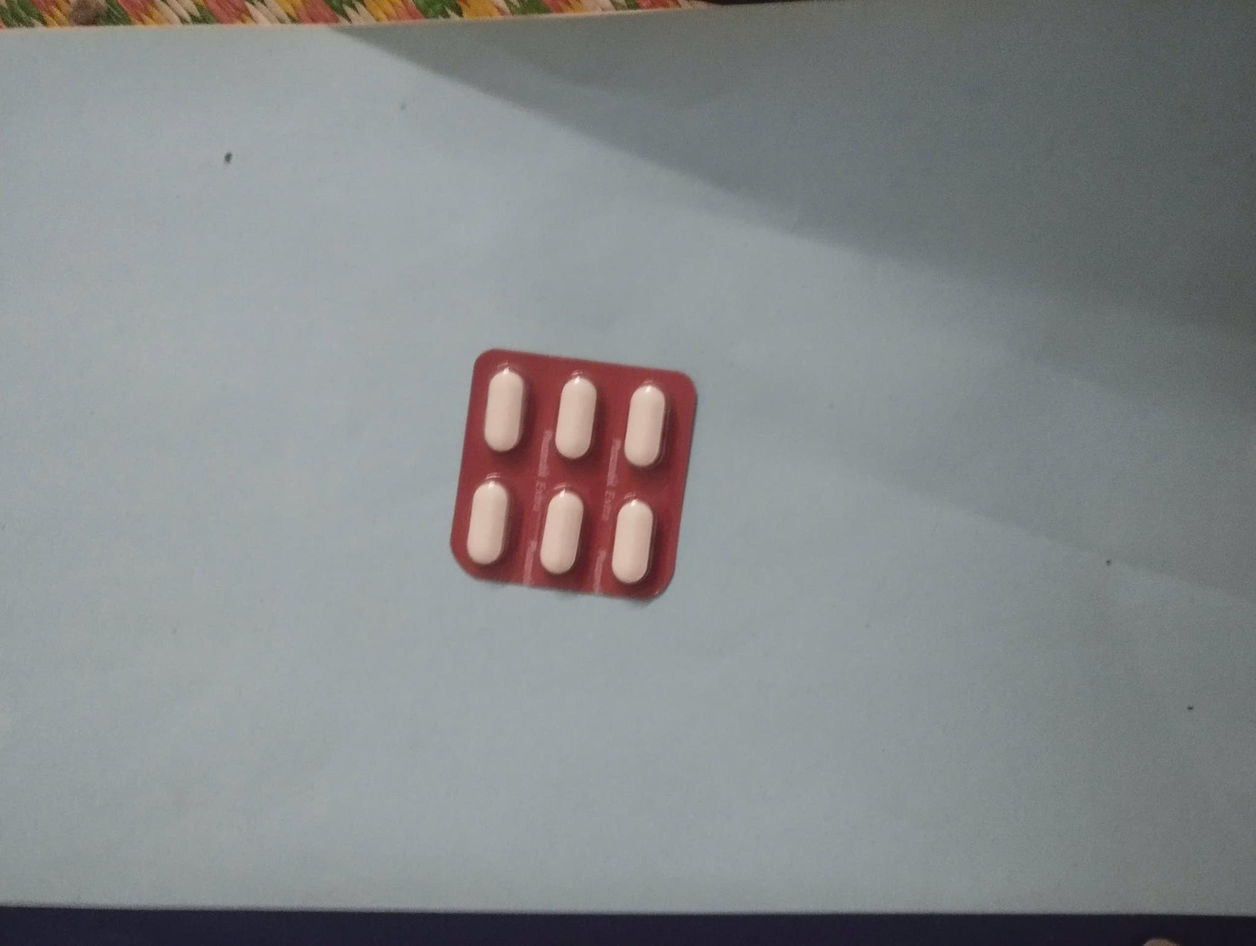Full: (607, 498, 658, 588), (480, 362, 527, 458), (537, 486, 584, 582), (620, 383, 670, 473), (464, 478, 511, 569), (551, 375, 599, 463)
